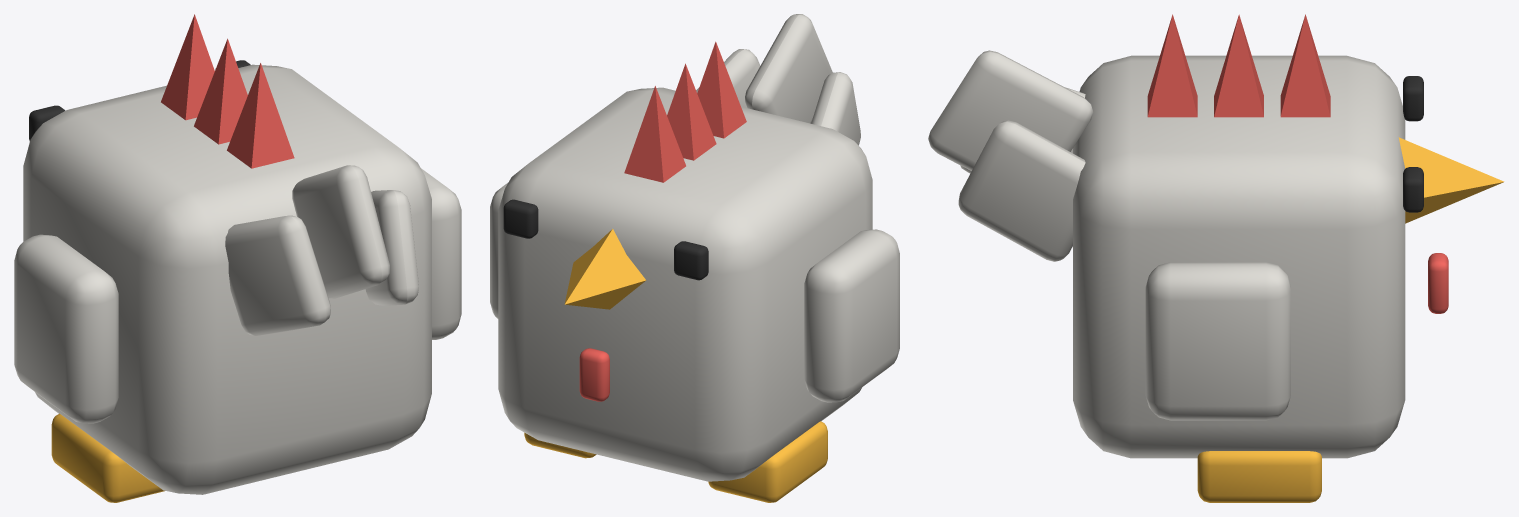
Rendered from Chicken.fbx.
3 renders of one model, left to right at view 1: azimuth 30°, elevation 25°; view 2: azimuth 150°, elevation 25°; view 3: azimuth 270°, elevation 25°, orthographic. The views are drawn at different scales.
Visible parts, largest first — view 1: Chicken_Body, Chicken_Wing_-1, Chicken_Tail_L, Chicken_Tail_Mid, Chicken_Foot_-1, Chicken_Wing_1, Chicken_Tail_R, Chicken_Comb_2, Chicken_Comb_0, Chicken_Comb_1, Chicken_Eye_-1; view 2: Chicken_Body, Chicken_Wing_-1, Chicken_Tail_Mid, Chicken_Foot_-1, Chicken_Beak, Chicken_Comb_0, Chicken_Comb_1, Chicken_Comb_2, Chicken_Tail_L, Chicken_Wattle, Chicken_Eye_1, Chicken_Tail_R (+3 smaller); view 3: Chicken_Body, Chicken_Wing_1, Chicken_Tail_R, Chicken_Tail_Mid, Chicken_Foot_1, Chicken_Beak, Chicken_Comb_0, Chicken_Comb_2, Chicken_Comb_1, Chicken_Wattle, Chicken_Eye_1, Chicken_Eye_-1.
Boxes of the visible parts, left/top/right/bottom form: Chicken_Body: left=23, top=64, right=431, bottom=494; Chicken_Wing_-1: left=14, top=234, right=118, bottom=423; Chicken_Tail_L: left=225, top=215, right=330, bottom=335; Chicken_Tail_Mid: left=292, top=165, right=389, bottom=298; Chicken_Foot_-1: left=51, top=413, right=164, bottom=502; Chicken_Wing_1: left=421, top=168, right=461, bottom=339; Chicken_Tail_R: left=365, top=190, right=418, bottom=305; Chicken_Comb_2: left=227, top=63, right=294, bottom=168; Chicken_Comb_0: left=161, top=14, right=214, bottom=120; Chicken_Comb_1: left=194, top=38, right=247, bottom=144; Chicken_Eye_-1: left=29, top=105, right=65, bottom=141; Chicken_Body: left=498, top=87, right=872, bottom=481; Chicken_Wing_-1: left=804, top=229, right=899, bottom=402; Chicken_Tail_Mid: left=745, top=14, right=832, bottom=123; Chicken_Foot_-1: left=708, top=421, right=827, bottom=502; Chicken_Beak: left=564, top=229, right=646, bottom=309; Chicken_Comb_0: left=624, top=86, right=685, bottom=182; Chicken_Comb_1: left=667, top=63, right=716, bottom=160; Chicken_Comb_2: left=697, top=41, right=746, bottom=138; Chicken_Tail_L: left=811, top=72, right=860, bottom=145; Chicken_Wattle: left=579, top=348, right=609, bottom=401; Chicken_Eye_1: left=503, top=199, right=538, bottom=238; Chicken_Tail_R: left=696, top=49, right=760, bottom=107; Chicken_Body: left=1073, top=55, right=1405, bottom=458; Chicken_Wing_1: left=1145, top=262, right=1290, bottom=420; Chicken_Tail_R: left=958, top=120, right=1085, bottom=261; Chicken_Tail_Mid: left=928, top=50, right=1093, bottom=170; Chicken_Foot_1: left=1197, top=451, right=1321, bottom=502; Chicken_Beak: left=1398, top=137, right=1504, bottom=223; Chicken_Comb_0: left=1280, top=14, right=1330, bottom=117; Chicken_Comb_2: left=1147, top=14, right=1197, bottom=117; Chicken_Comb_1: left=1214, top=14, right=1263, bottom=117; Chicken_Wattle: left=1428, top=253, right=1448, bottom=313; Chicken_Eye_1: left=1403, top=167, right=1423, bottom=212; Chicken_Eye_-1: left=1403, top=76, right=1423, bottom=121.
Bounding box in the file's own units: 110 × 113 × 139.
